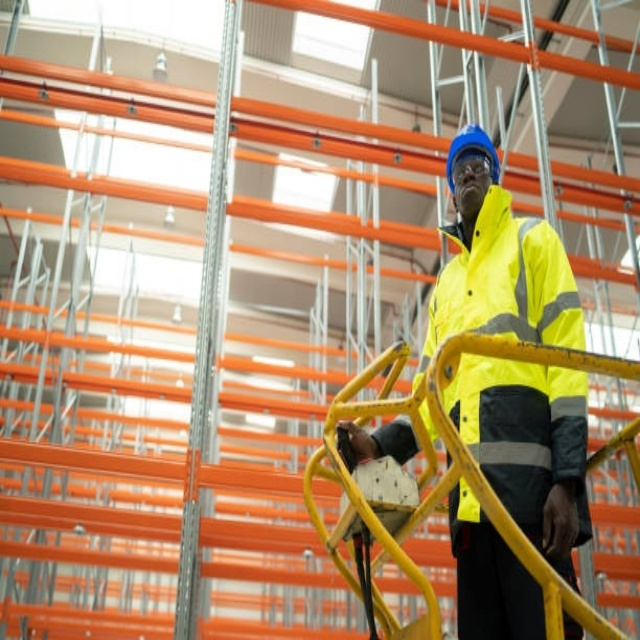Gafas: (452, 156, 494, 183)
Sin_guantes: (542, 480, 582, 560)
Sin_mascara: (460, 184, 484, 205)
